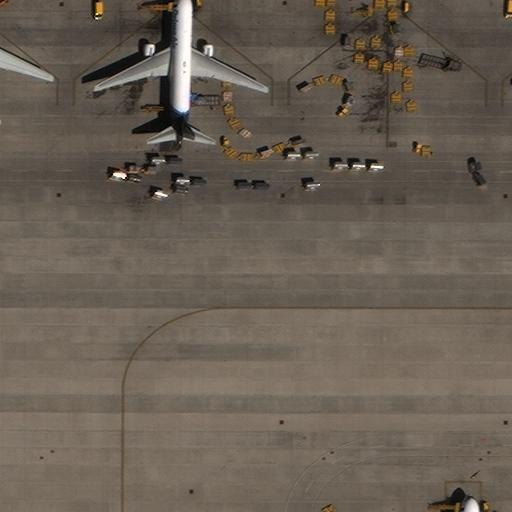Large Civil Transport: (94, 0, 267, 145), (0, 21, 52, 105)
